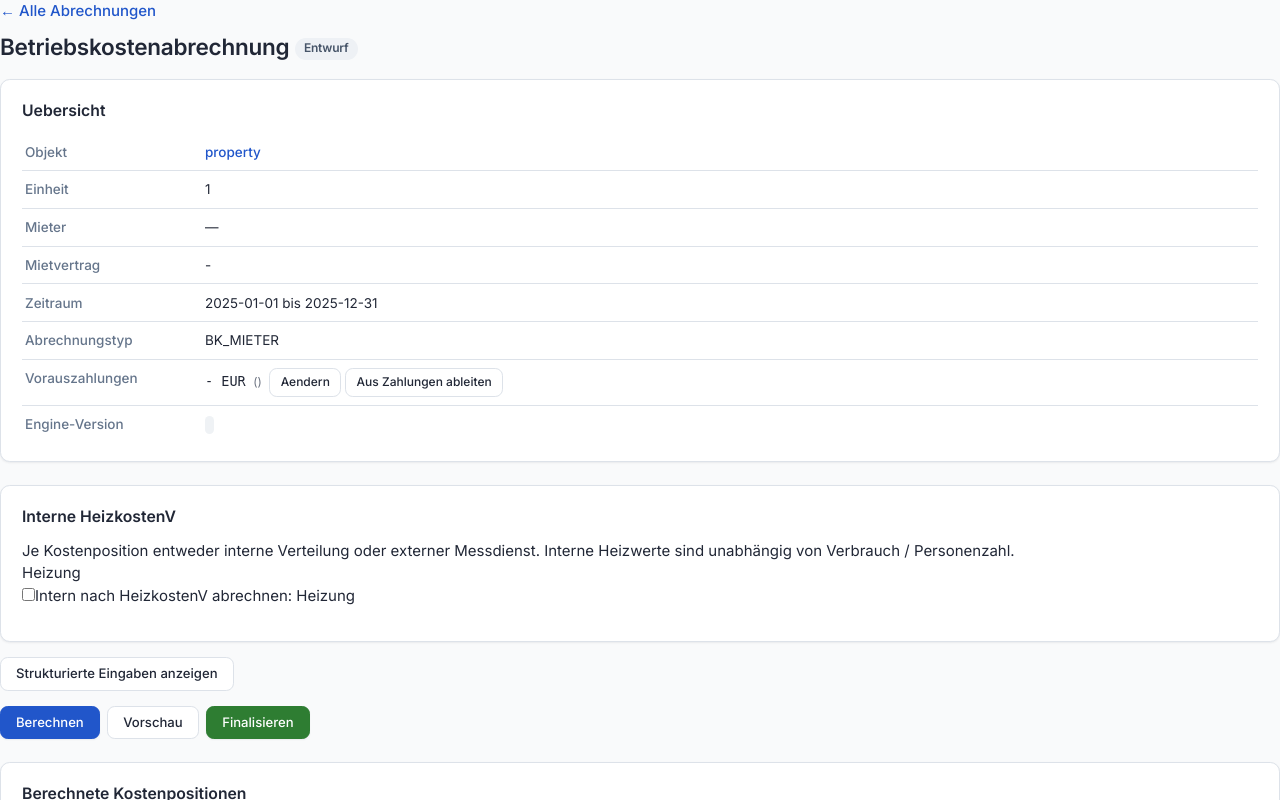
it: blocks all actions while candidates load or fail, then retries
The width and height of the screenshot is (1280, 800).
Click the checkbox labelled "Intern nach HeizkostenV abrechnen: Heizung".
click(28, 594)  # box [22,588,35,600]
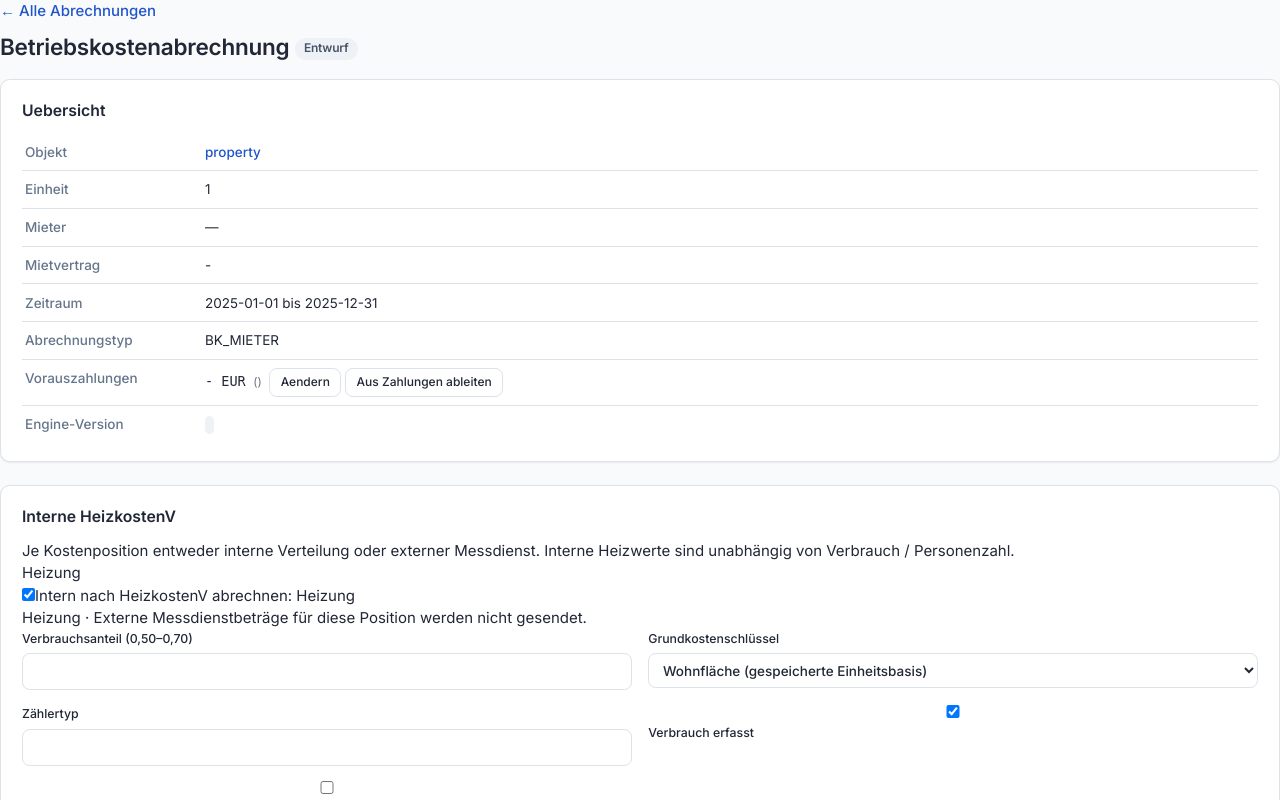
Type "0.65" into the field labelled "Verbrauchsanteil (0,50–0,70)".
click(327, 672); type("0.65")  # box [22,653,632,690]
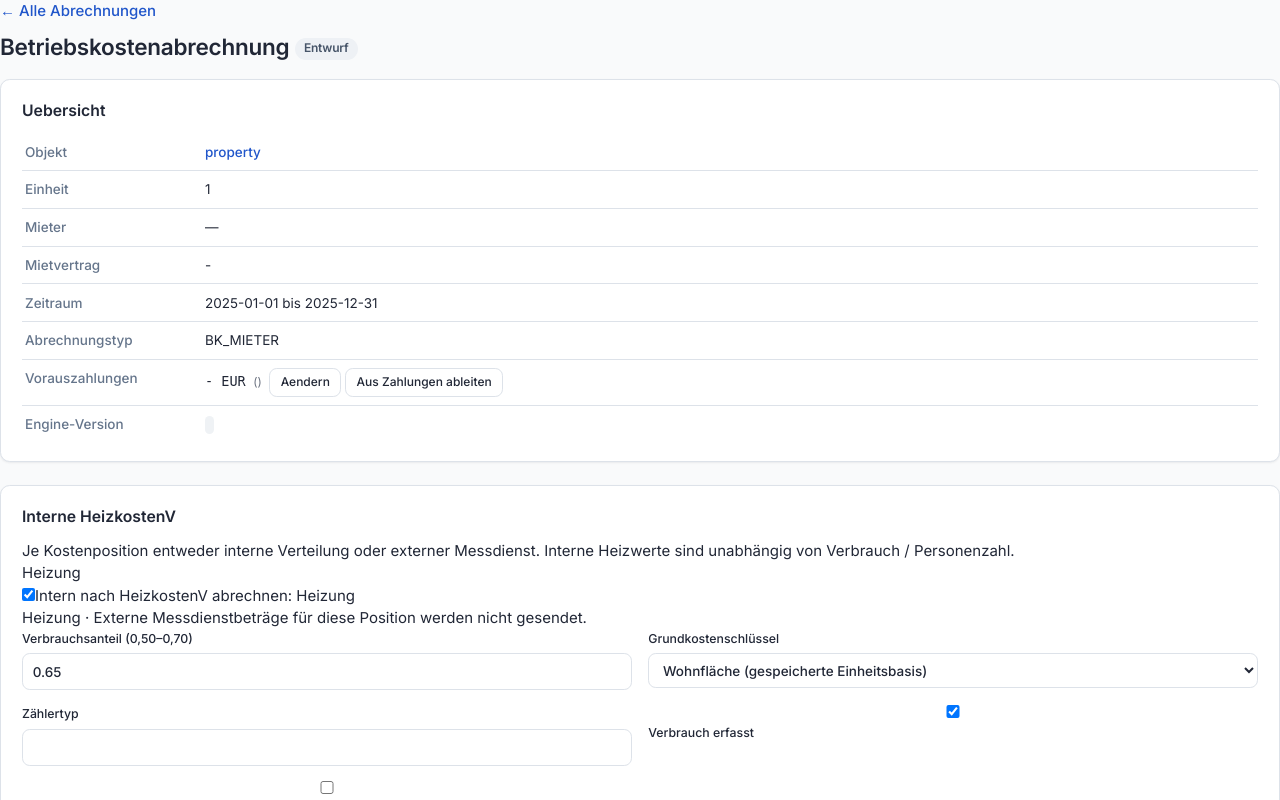
Type "HEIZUNG" into the field labelled "Zählertyp".
click(327, 748); type("HEIZUNG")  # box [22,729,632,766]
(page scrolled)
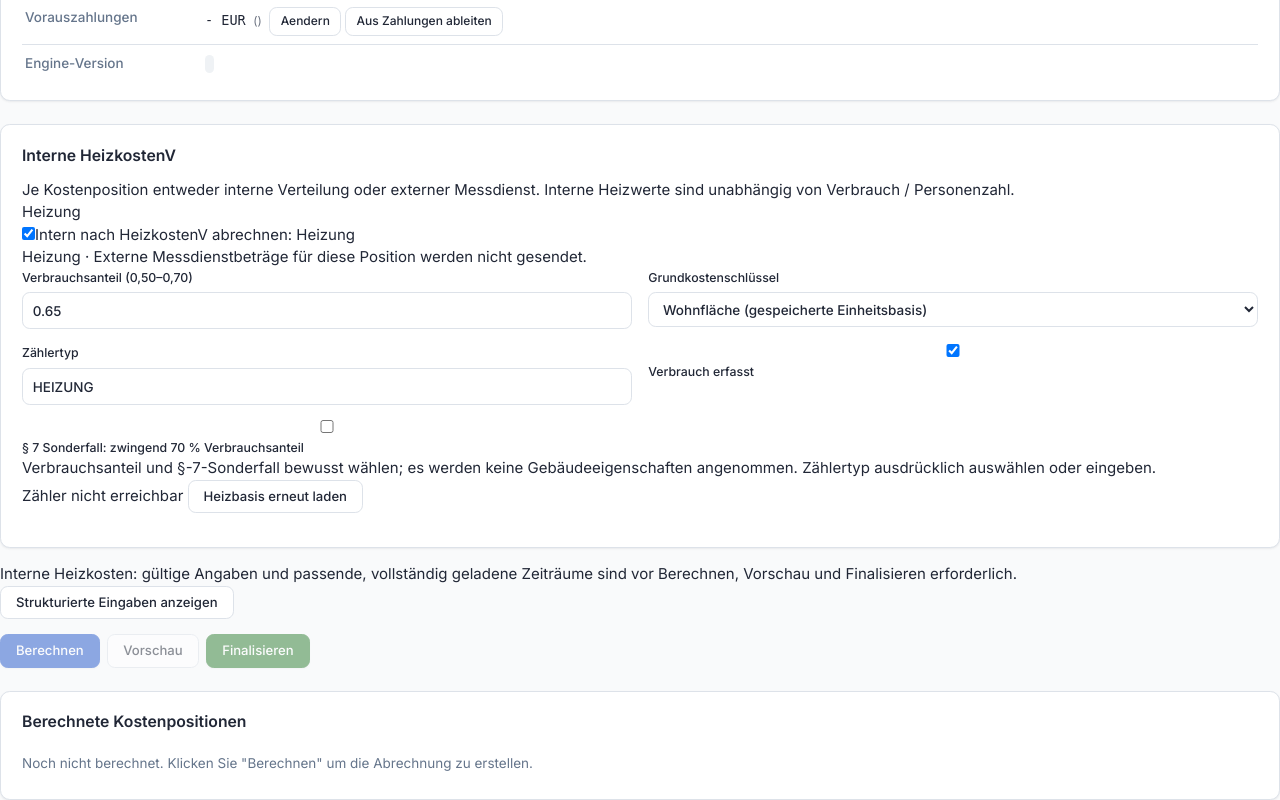
Check: the button "Berechnen" is disabled, box [0,634,100,668]
Check: the button "Vorschau" is disabled, box [107,634,199,668]
Check: the button "Finalisieren" is disabled, box [206,634,310,668]
Click the button "Heizbasis erneut laden".
click(275, 496)  # box [188,480,363,513]
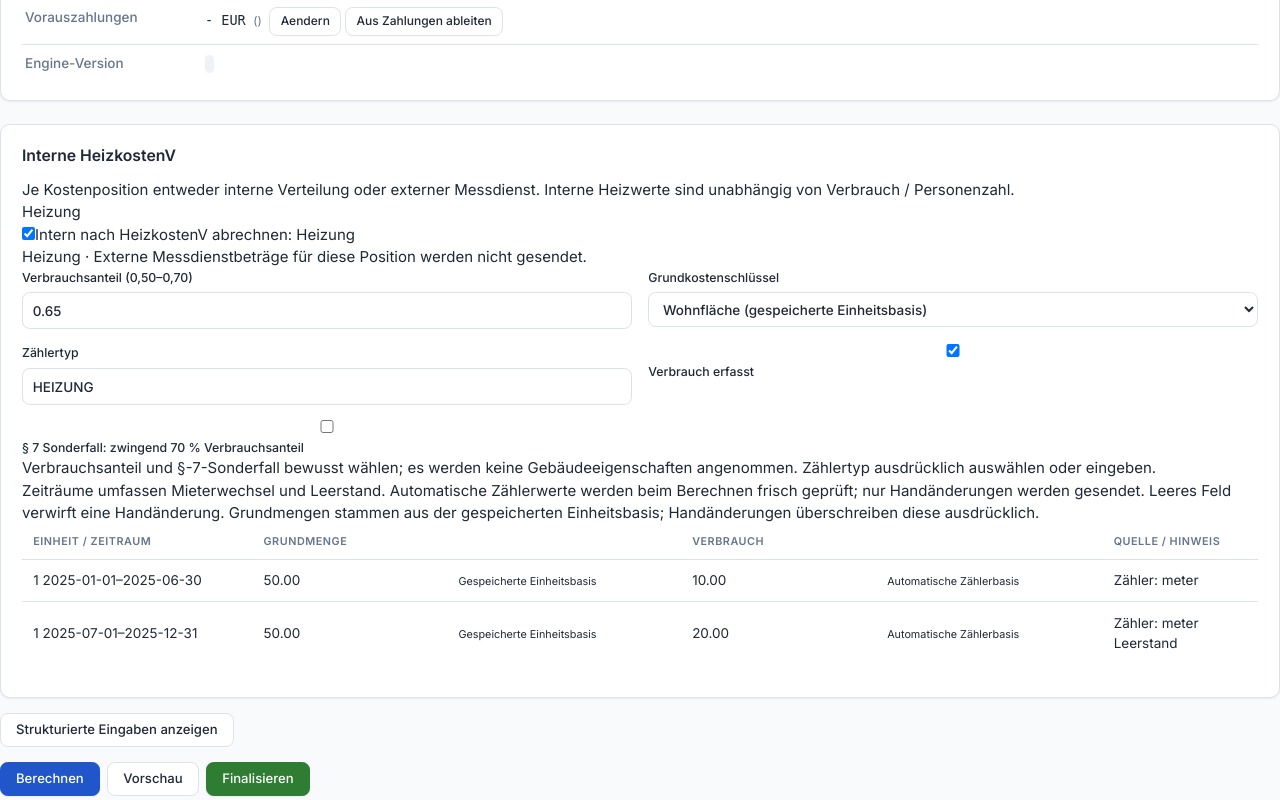
Check: the button "Berechnen" is enabled, box [0,762,100,796]
